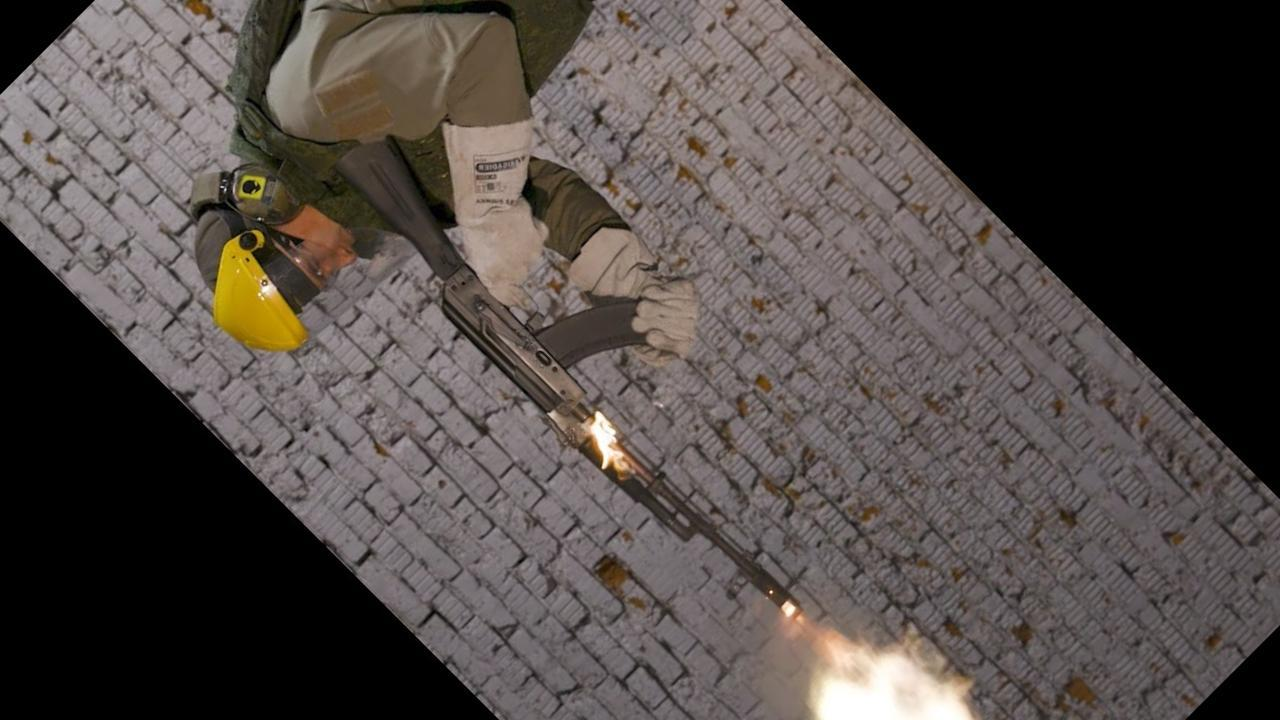larga: (331, 134, 804, 621)
